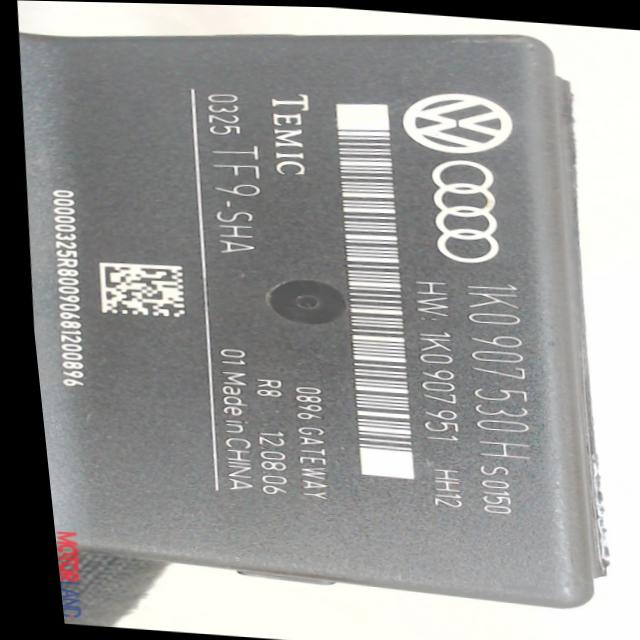datamatrix: (89, 260, 183, 320)
